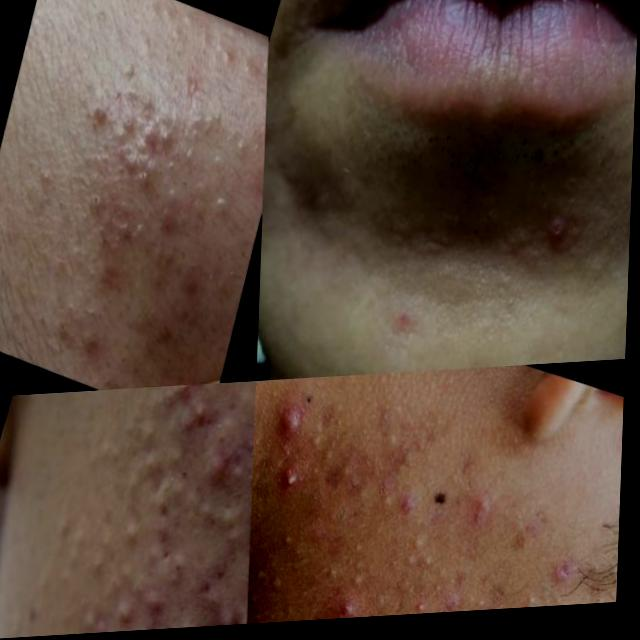8: (90, 568, 176, 635), (530, 218, 606, 289), (155, 385, 216, 450), (149, 305, 180, 358), (393, 492, 428, 538), (87, 96, 115, 136), (181, 269, 212, 302), (83, 328, 104, 363)
9: (270, 450, 317, 513), (268, 400, 312, 448), (338, 594, 371, 623)
blackheads: (164, 547, 198, 601), (96, 255, 131, 296)
dark spot: (110, 142, 162, 199), (75, 175, 110, 223), (156, 179, 182, 229), (132, 115, 158, 158), (207, 186, 233, 224), (159, 149, 182, 182), (109, 215, 132, 248), (116, 53, 139, 86), (217, 46, 238, 75), (191, 173, 210, 200), (306, 387, 323, 414), (122, 110, 137, 135)
